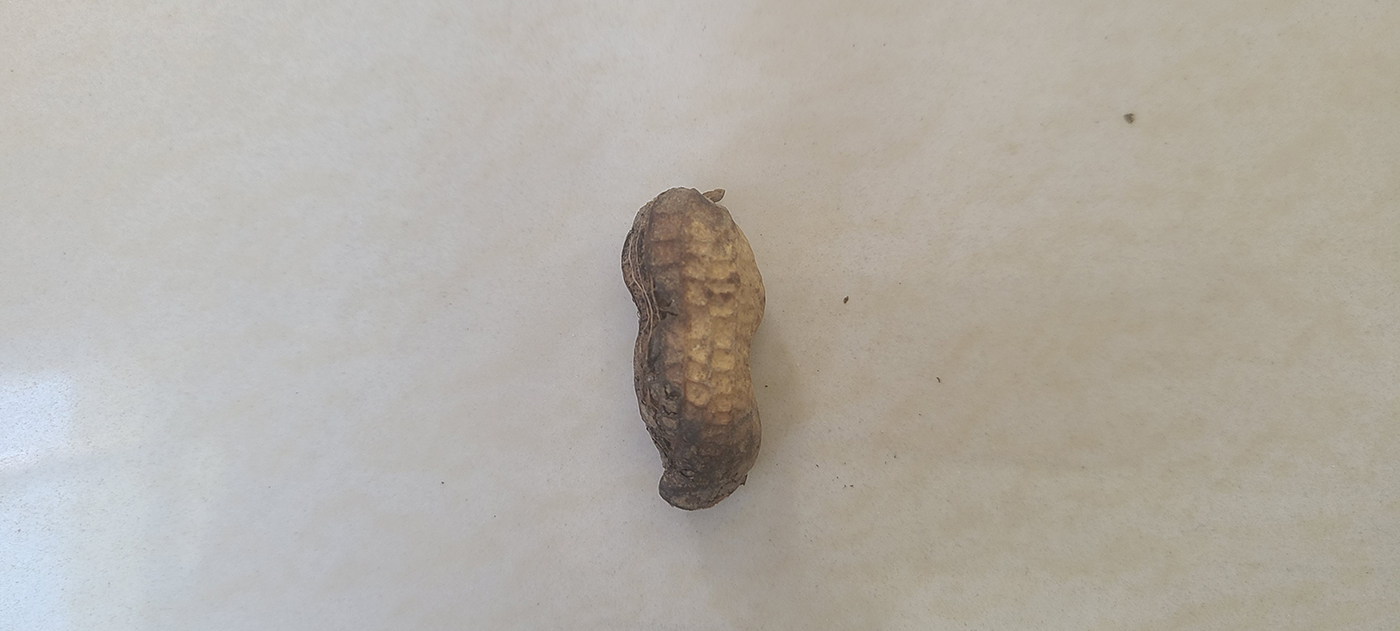l: (621, 187, 765, 513)
